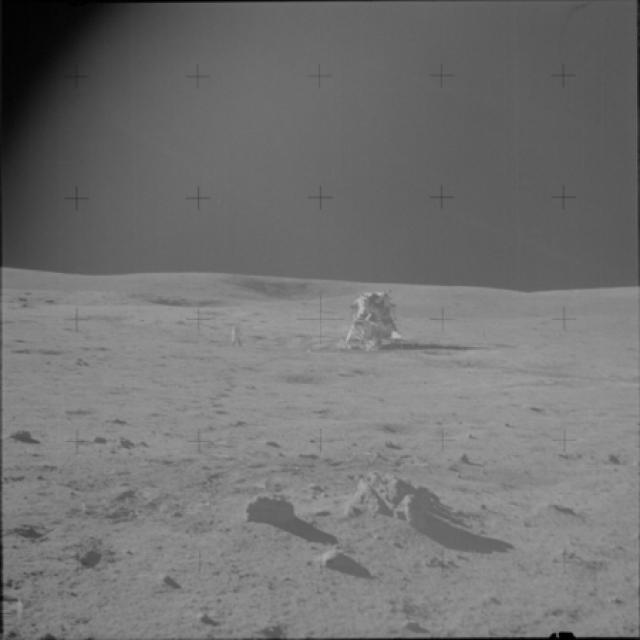crater: (351, 414, 476, 444), (276, 364, 330, 396)
rock: (384, 472, 436, 526), (337, 478, 388, 522), (238, 488, 296, 525), (532, 496, 584, 526), (312, 540, 348, 573), (0, 421, 35, 449), (152, 570, 182, 591)
